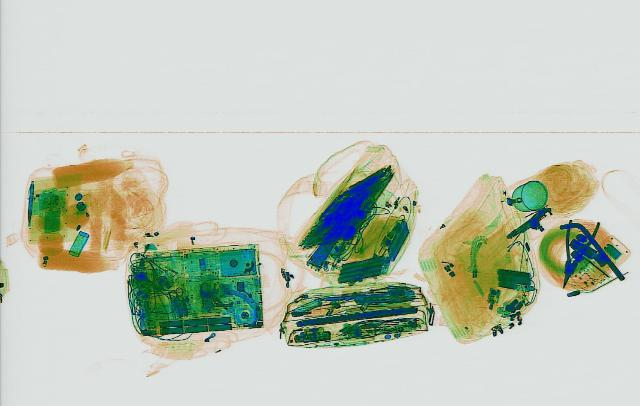Pliers: (546, 218, 602, 289)
